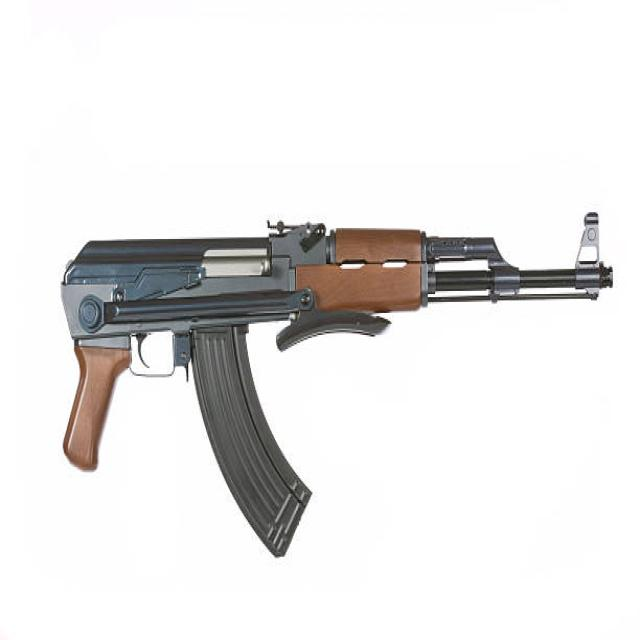rifle: (51, 203, 619, 561)
